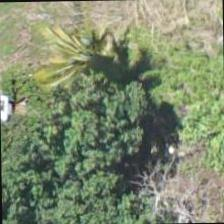Kelapa_Sawit: (44, 17, 136, 108)
